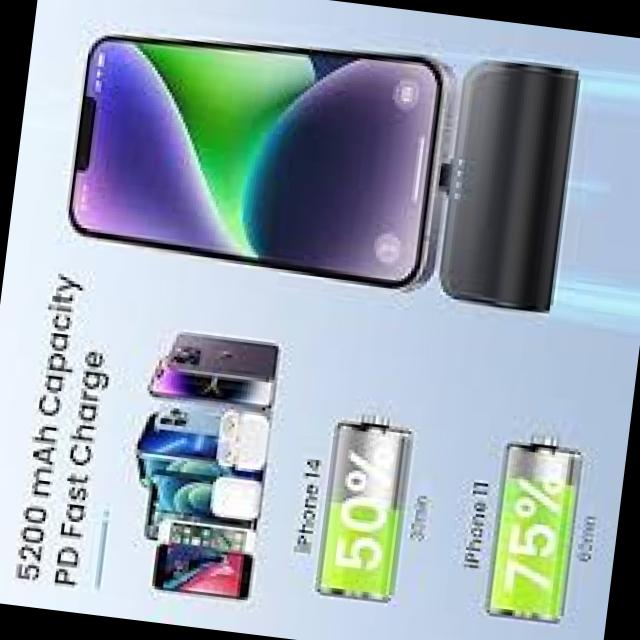portable-charger: (420, 48, 588, 315)
